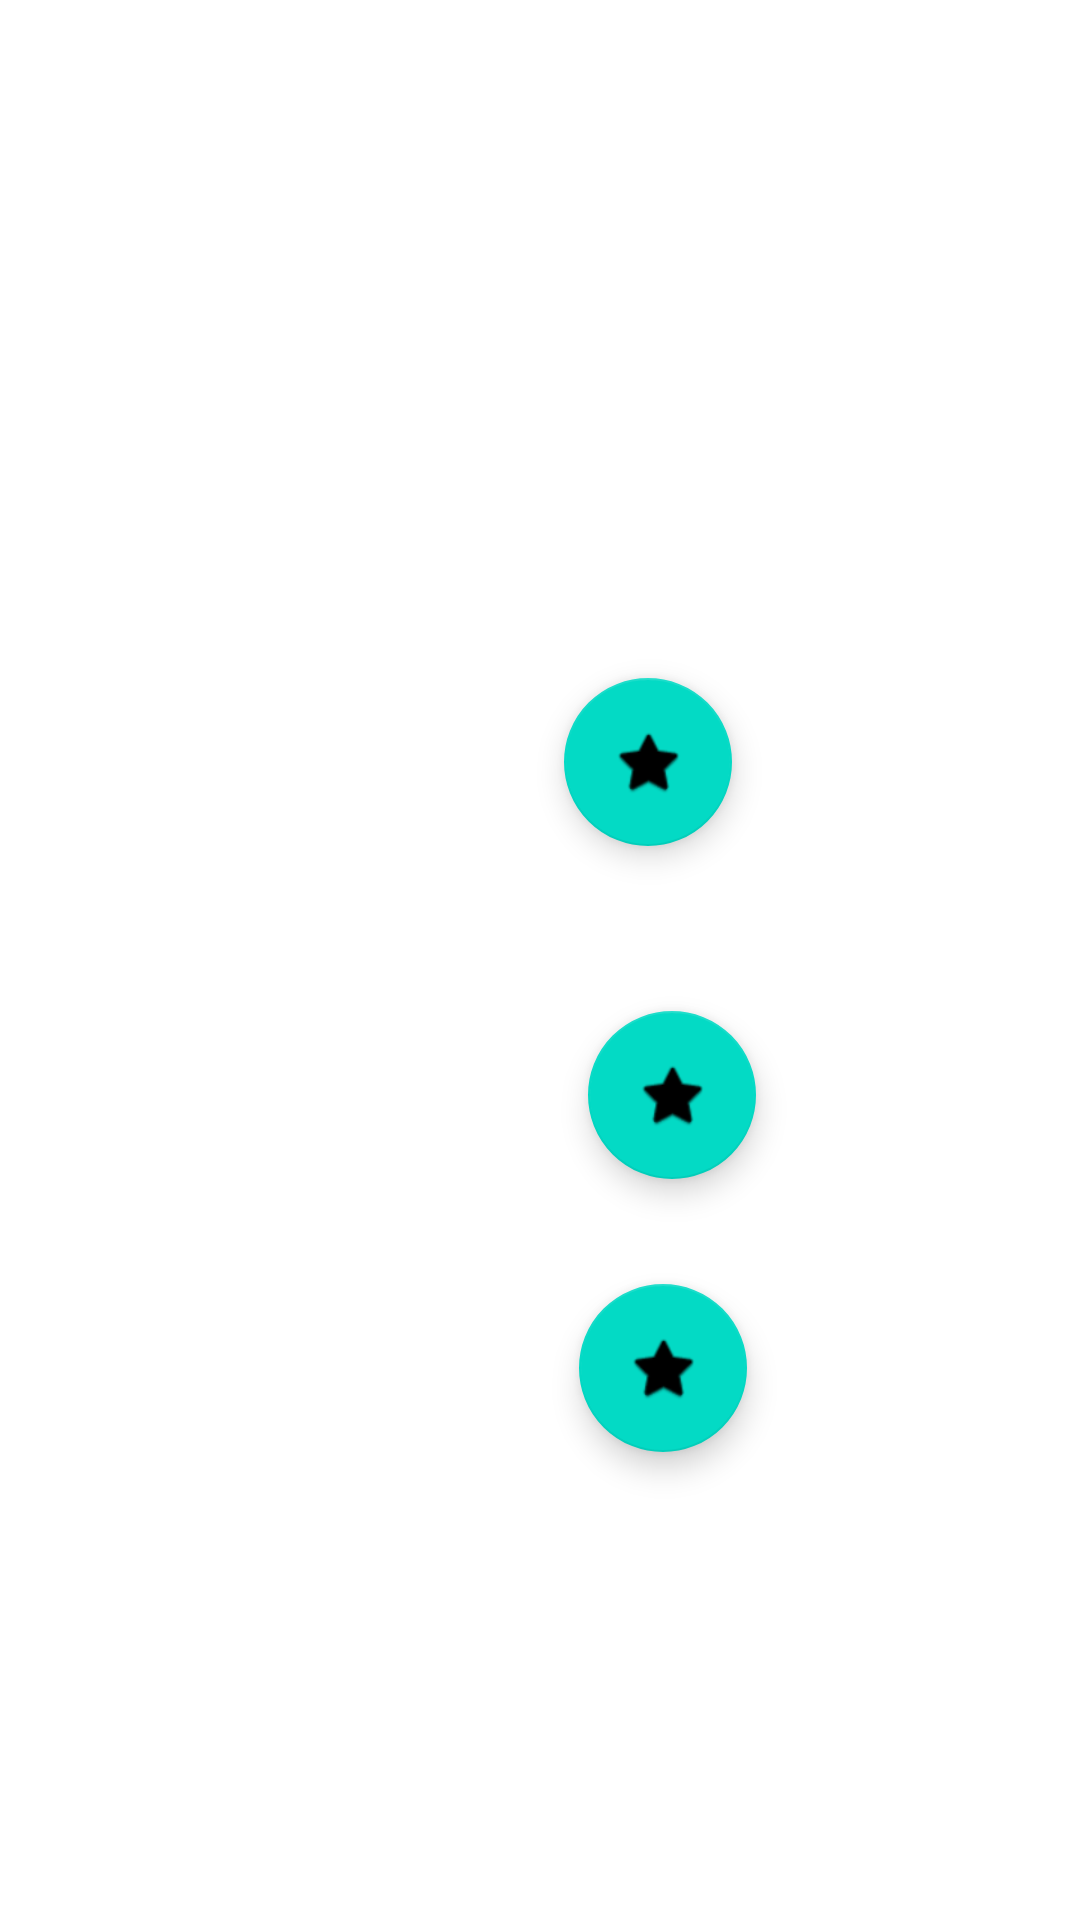

Where icons sit on this 1080px x 1920px app screen, as (x1,y1,x2,y2):
star on: (564,678,732,846), (588,1011,756,1179), (579,1284,747,1452)
